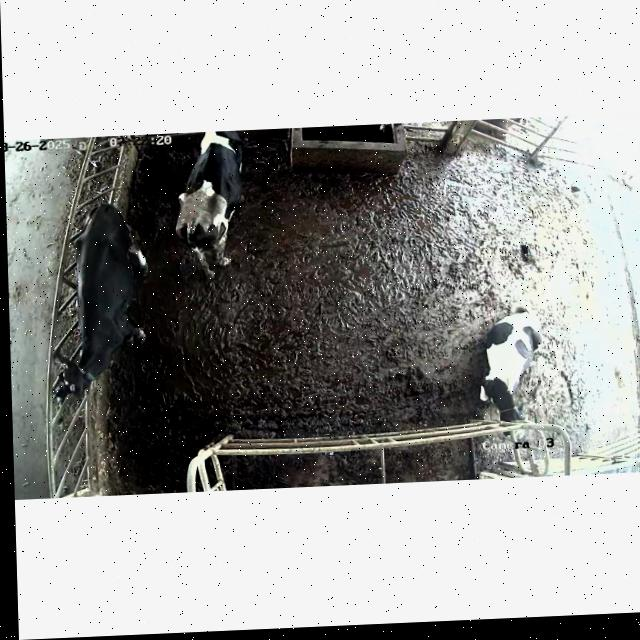stand: (41, 194, 159, 419), (169, 129, 272, 288)
